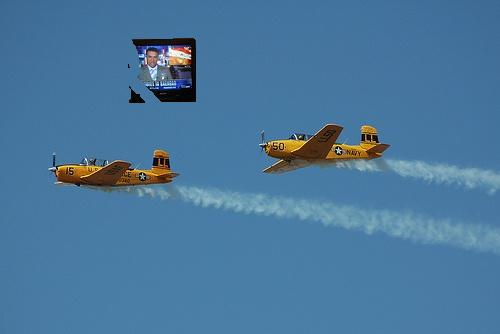tampered: (129, 39, 196, 103)
